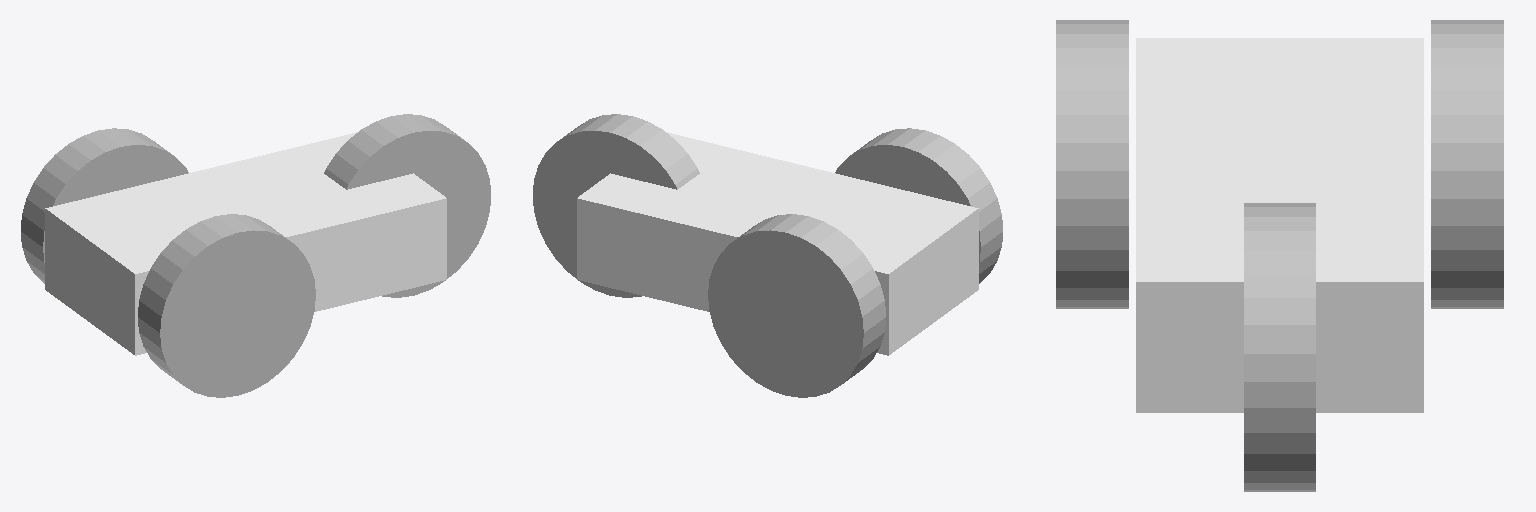
robot.urdf — tricycle:
<?xml version='1.0'?>
<robot name="tricycle">
  <material name="grey">
    <color rgba="0.8 0.8 0.8 1"/>
  </material>
  <material name="white">
    <color rgba="1 1 1 1 "/>
  </material>
  <link name='base_link'>
    <visual>
      <geometry>
        <box size=".4 .2 .1"/>
      </geometry>
      <origin rpy="0 0 0" xyz="0 0 0.1"/>
      <material name="white"/>
    </visual>
    <collision>
      <origin rpy="0 0 0" xyz="0 0 0.1"/>
      <geometry>
        <box size=".4 .2 .1"/>
      </geometry>
    </collision>
    <inertial>
      <origin rpy="0 0 0" xyz="0 0 0.1"/>
      <mass value="1"/>
      <inertia ixx="1" ixy="0" ixz="0" iyy="1" iyz="0" izz="1"/>
    </inertial>
  </link>

  <link name="front_wheel">
    <visual>
      <geometry>
        <cylinder length=".05" radius=".1"/>
      </geometry>
      <material name="grey"/>
    </visual>
    <collision>
      <geometry>
        <cylinder length=".05" radius=".1"/>
      </geometry>
    </collision>
    <inertial>
      <mass value="1"/>
      <inertia ixx="1" ixy="0" ixz="0" iyy="1" iyz="0" izz="1"/>
    </inertial>
  </link>
  <joint type="revolute" name="front_wheel_hinge">
    <origin rpy="0 -1.5707 1.5707" xyz="0.2 0 0.1"/>
    <child link="front_wheel"/>
    <parent link="base_link"/>
    <axis xyz="1 0 0"/>
    <limit effort="1000.0" lower="-1.0" upper="1.0" velocity="0.5"/>
  </joint>
  <transmission name="front_wheel_trans">
    <type>transmission_interface/SimpleTransmission</type>
    <actuator name="$front_wheel_motor">
      <mechanicalReduction>1</mechanicalReduction>
    </actuator>
    <joint name="front_wheel_hinge">
      <hardwareInterface>hardware_interface/VelocityJointInterface
      </hardwareInterface>
    </joint>
  </transmission>
  <gazebo reference="front_wheel">
    <mu1 value="200.0"/>
    <mu2 value="100.0"/>
    <kp value="10000000.0"/>
    <kd value="1.0"/>
    <material>Gazebo/Grey</material>
  </gazebo>

  <link name="left_wheel">
    <visual>
      <geometry>
        <cylinder length=".05" radius=".1"/>
      </geometry>
      <material name="grey"/>
    </visual>
    <collision>
      <geometry>
        <cylinder length=".05" radius=".1"/>
      </geometry>
    </collision>
    <inertial>
      <mass value="1"/>
      <inertia ixx="1" ixy="0" ixz="0" iyy="1" iyz="0" izz="1"/>
    </inertial>
  </link>
  <joint type="continuous" name="left_wheel_hinge">
    <origin rpy="0 1.5707 1.5707" xyz="-0.1 0.13 0.1"/>
    <child link="left_wheel"/>
    <parent link="base_link"/>
    <axis xyz="0 0 1"/>
    <limit effort="1000.0" velocity="10.0"/>
  </joint>
  <transmission name="left_wheel_trans">
    <type>transmission_interface/SimpleTransmission</type>
    <actuator name="$left_wheel_motor">
      <mechanicalReduction>1</mechanicalReduction>
    </actuator>
    <joint name="left_wheel_hinge">
      <hardwareInterface>hardware_interface/VelocityJointInterface
      </hardwareInterface>
    </joint>
  </transmission>
  <gazebo reference="left_wheel">
    <mu1 value="200.0"/>
    <mu2 value="100.0"/>
    <kp value="10000000.0"/>
    <kd value="1.0"/>
    <material>Gazebo/Grey</material>
  </gazebo>

  <link name="right_wheel">
    <visual>
      <geometry>
        <cylinder length=".05" radius=".1"/>
      </geometry>
      <material name="grey"/>
    </visual>
    <collision>
      <geometry>
        <cylinder length=".05" radius=".1"/>
      </geometry>
    </collision>
    <inertial>
      <mass value="1"/>
      <inertia ixx="1" ixy="0" ixz="0" iyy="1" iyz="0" izz="1"/>
    </inertial>
  </link>
  <joint type="continuous" name="right_wheel_hinge">
    <origin rpy="0 1.5707 1.5707" xyz="-0.1 -0.13 0.1"/>
    <child link="right_wheel"/>
    <parent link="base_link"/>
    <axis xyz="0 0 1"/>
    <limit effort="1000.0" velocity="10.0"/>
  </joint>
  <transmission name="right_wheel_trans">
    <type>transmission_interface/SimpleTransmission</type>
    <actuator name="$right_wheel_motor">
      <mechanicalReduction>1</mechanicalReduction>
    </actuator>
    <joint name="right_wheel_hinge">
      <hardwareInterface>hardware_interface/VelocityJointInterface
      </hardwareInterface>
    </joint>
  </transmission>
  <gazebo reference="right_wheel">
    <mu1 value="200.0"/>
    <mu2 value="100.0"/>
    <kp value="10000000.0"/>
    <kd value="1.0"/>
    <material>Gazebo/Grey</material>
  </gazebo>

  <gazebo>
    <plugin name="gazebo_ros_control" filename="libgazebo_ros_control.so">
      <robotNamespace>/</robotNamespace>
    </plugin>
  </gazebo>

</robot>

--- Render facts (derived) ---
The picture shows the robot from 3 angles, left to right: view 1: azimuth 30°, elevation 25°; view 2: azimuth 150°, elevation 25°; view 3: azimuth 270°, elevation 25°; orthographic projection.
Model tricycle with 4 links and 3 joints (1 revolute, 2 continuous), rooted at base_link, posed every joint at zero.
Links seen in each view (by area): view 1: base_link, right_wheel, front_wheel, left_wheel; view 2: base_link, left_wheel, front_wheel, right_wheel; view 3: base_link, left_wheel, right_wheel, front_wheel.
Boxes of the visible links, x1,y1,x2,y2 form: base_link: (45, 132, 446, 355); right_wheel: (138, 214, 315, 397); front_wheel: (324, 114, 490, 297); left_wheel: (21, 128, 188, 283); base_link: (577, 132, 978, 355); left_wheel: (708, 214, 885, 397); front_wheel: (533, 114, 699, 297); right_wheel: (835, 128, 1002, 283); base_link: (1136, 38, 1423, 412); left_wheel: (1431, 20, 1503, 308); right_wheel: (1056, 20, 1128, 308); front_wheel: (1244, 203, 1315, 491).
Bounding box of the posed robot: 0.5 × 0.31 × 0.2 m (x, y, z).
Geometry: primitives only (box / cylinder / sphere), no mesh files.